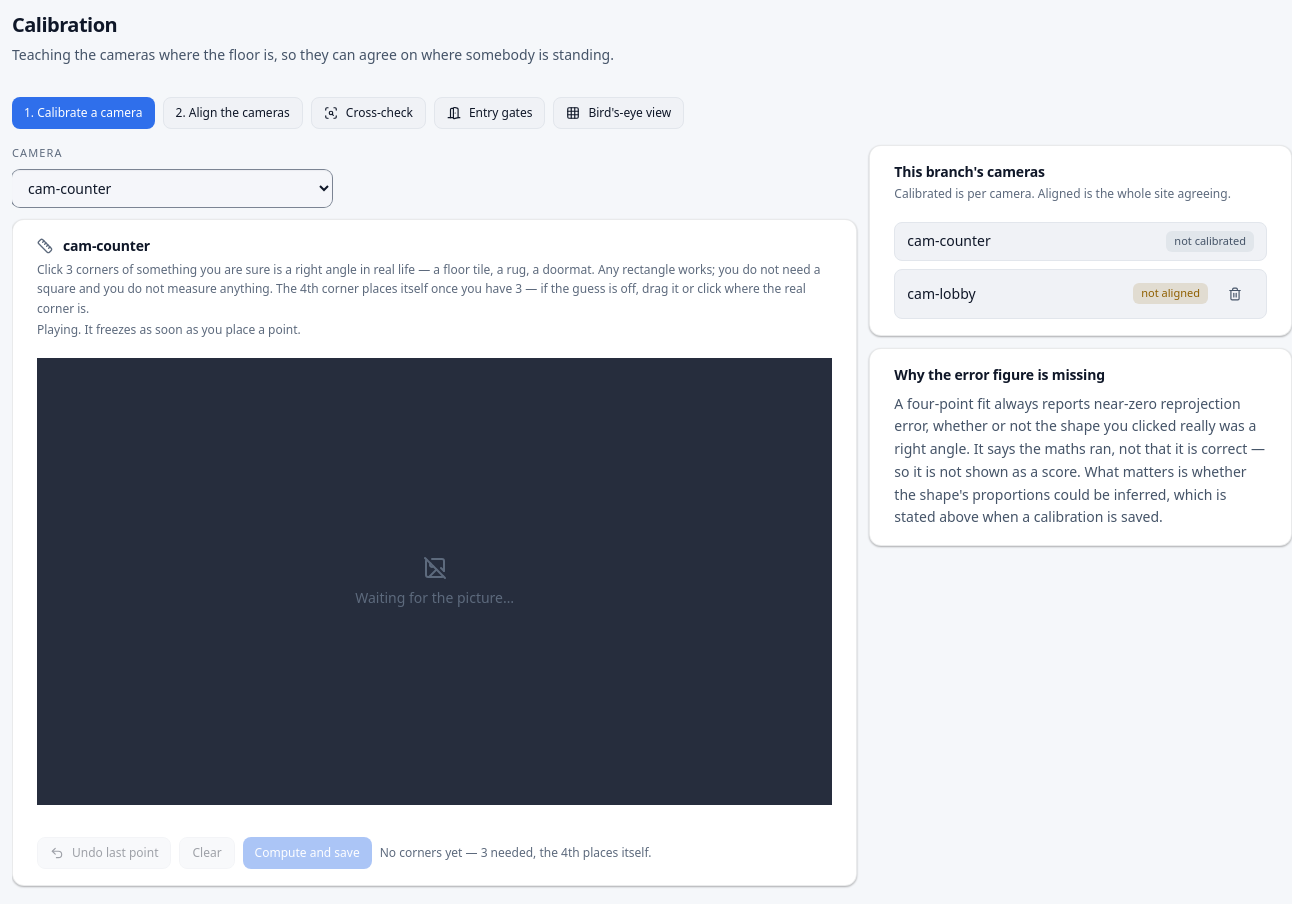
Scenario: Calibration › refuses to offer alignment until two cameras are calibrated
Expected: the text "not aligned" is shown, [1133, 283, 1208, 304]
Click the button "2. Align the cameras" at x=233, y=113, box [162, 97, 303, 129]
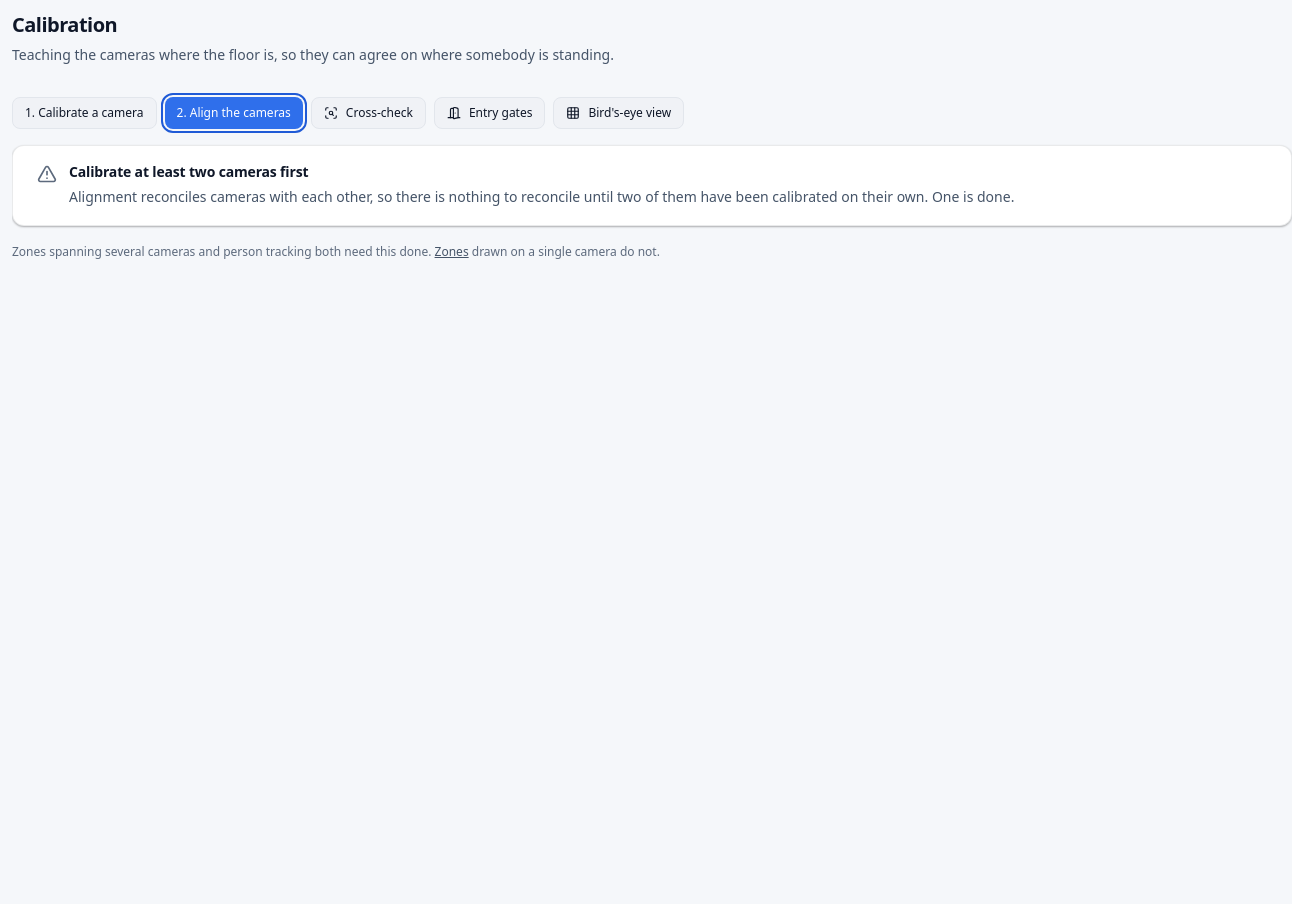
Now the heading "Calibrate at least two cameras first" is shown, box [69, 162, 308, 181]
Now the text "One is done." is shown, box [932, 187, 1014, 206]
